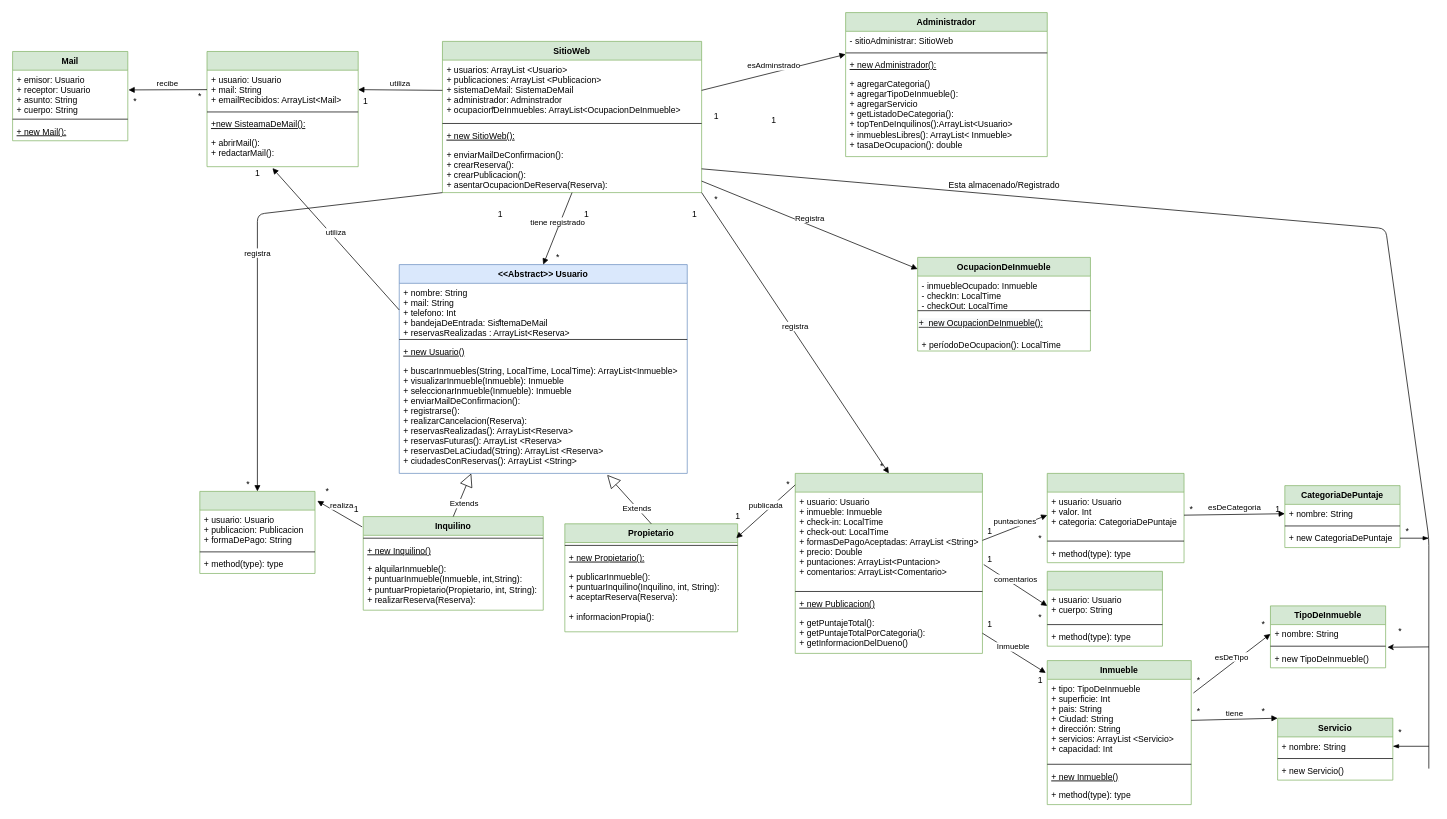
The diagram is 1447 pixels wide and 819 high, and some of its shapes have lost their labels. The box of each missing label's shape, as (x1, y1, x2, y2) in pixels:
Comentario: (1047, 571, 1162, 646)
Publicación: (795, 473, 982, 653)
Puntacion: (1047, 473, 1184, 563)
Reserva: (199, 491, 315, 573)
SistemaDeMail: (206, 51, 358, 167)
